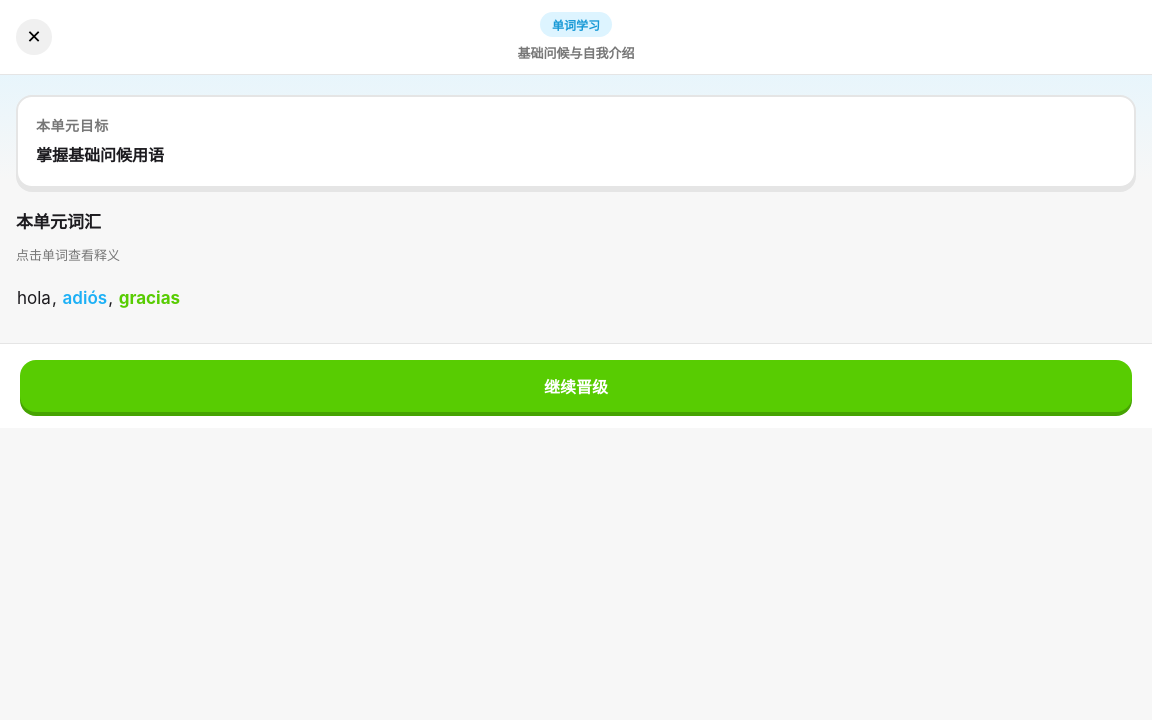
Test case: TeachingPage vocab list › opens WordPopup when a word chip is tapped
The image size is (1152, 720).
Click the text with class "word-chip" showing "hola": (34, 298) 16,286 -> 52,310
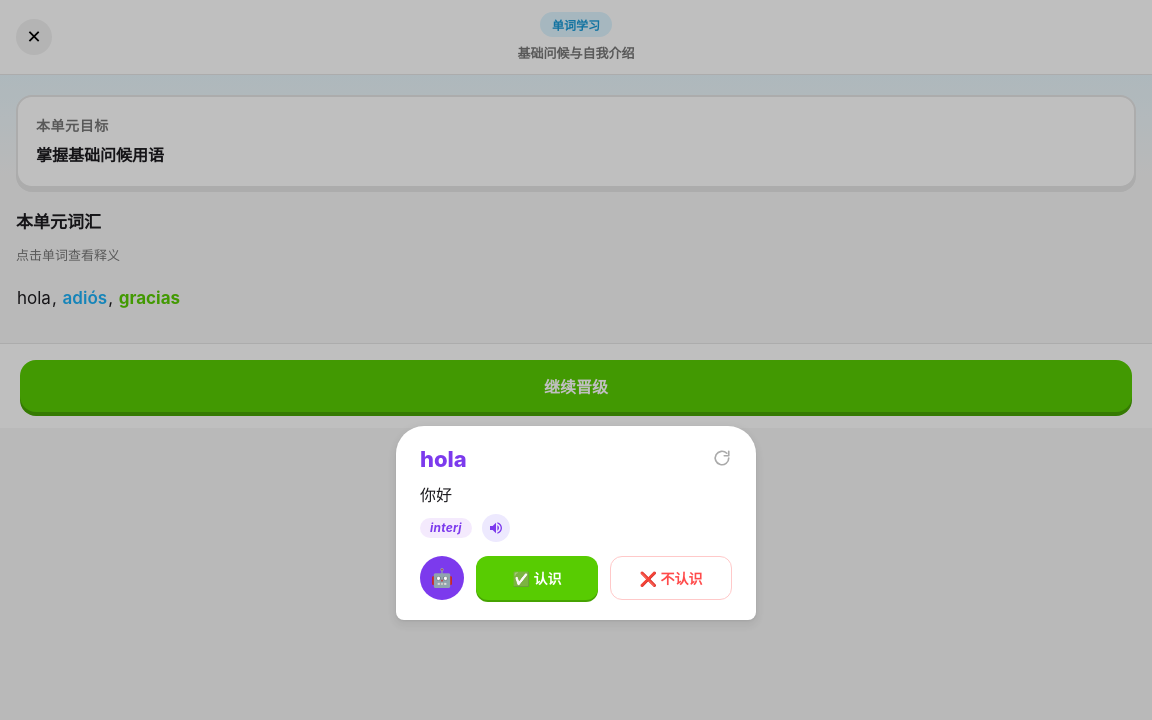
Check: the element with class "word-popup" is shown, box 396,426 -> 756,620
